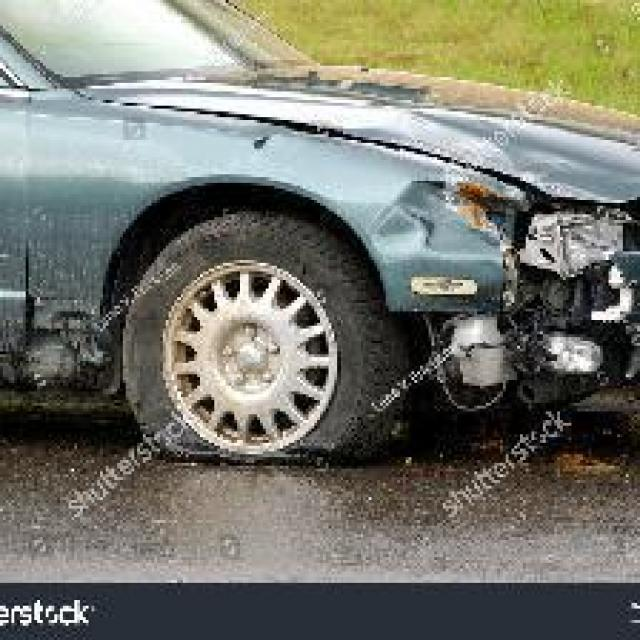damaged: (377, 142, 637, 438), (2, 246, 134, 428), (140, 422, 346, 474)
